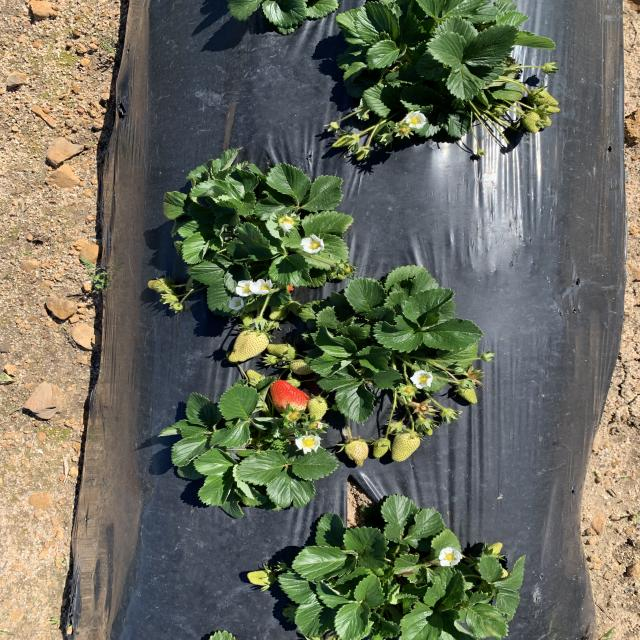unripe: (271, 377, 309, 423)
